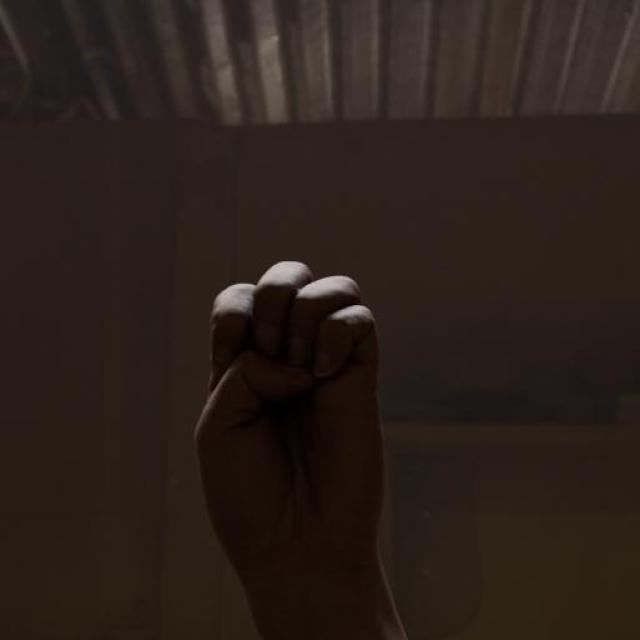E: (193, 258, 388, 576)
